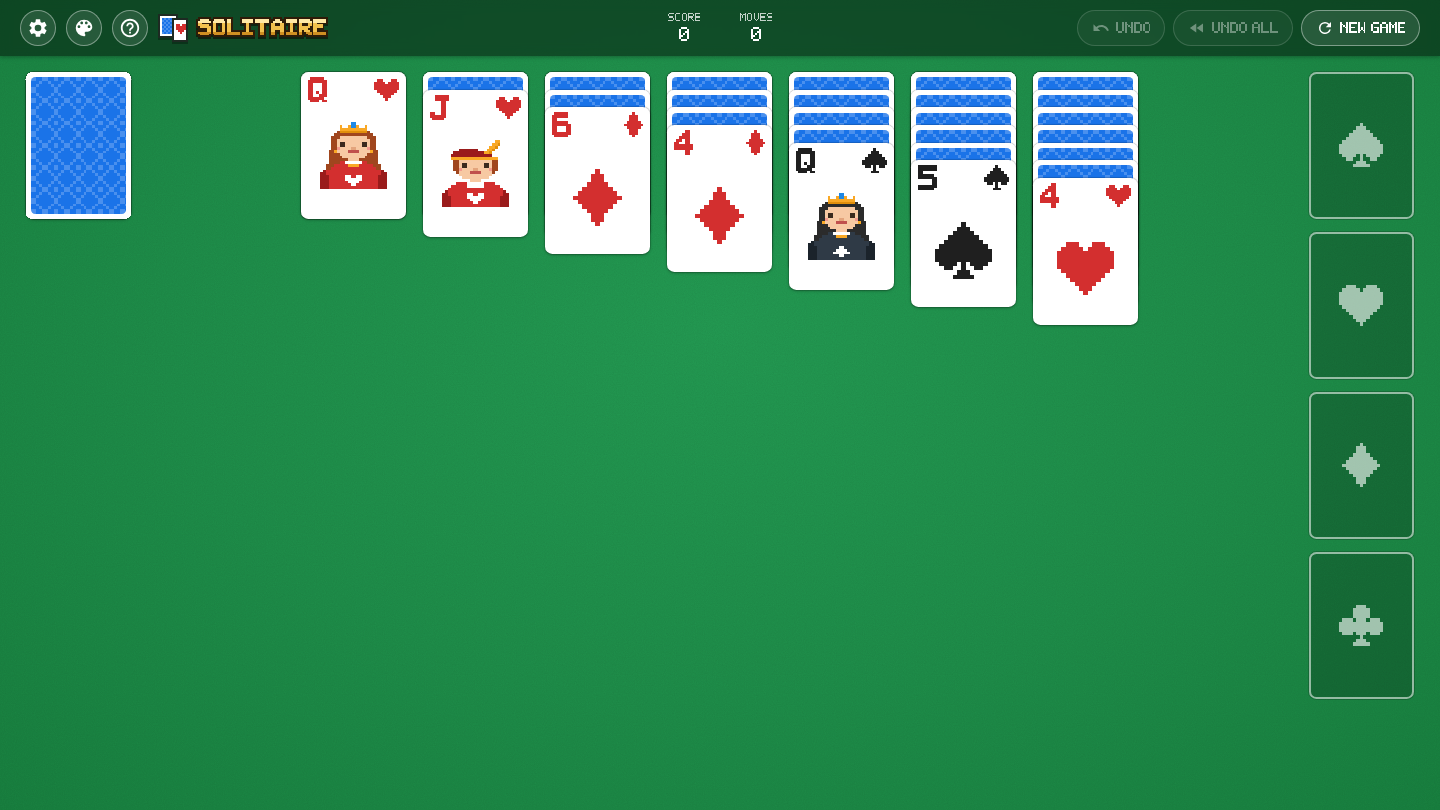
Test case: quick table picker › the palette button opens the six tables with the current one focused
Step 1. Click the button named "Change table" → click(84, 28), box [66,10,102,46]
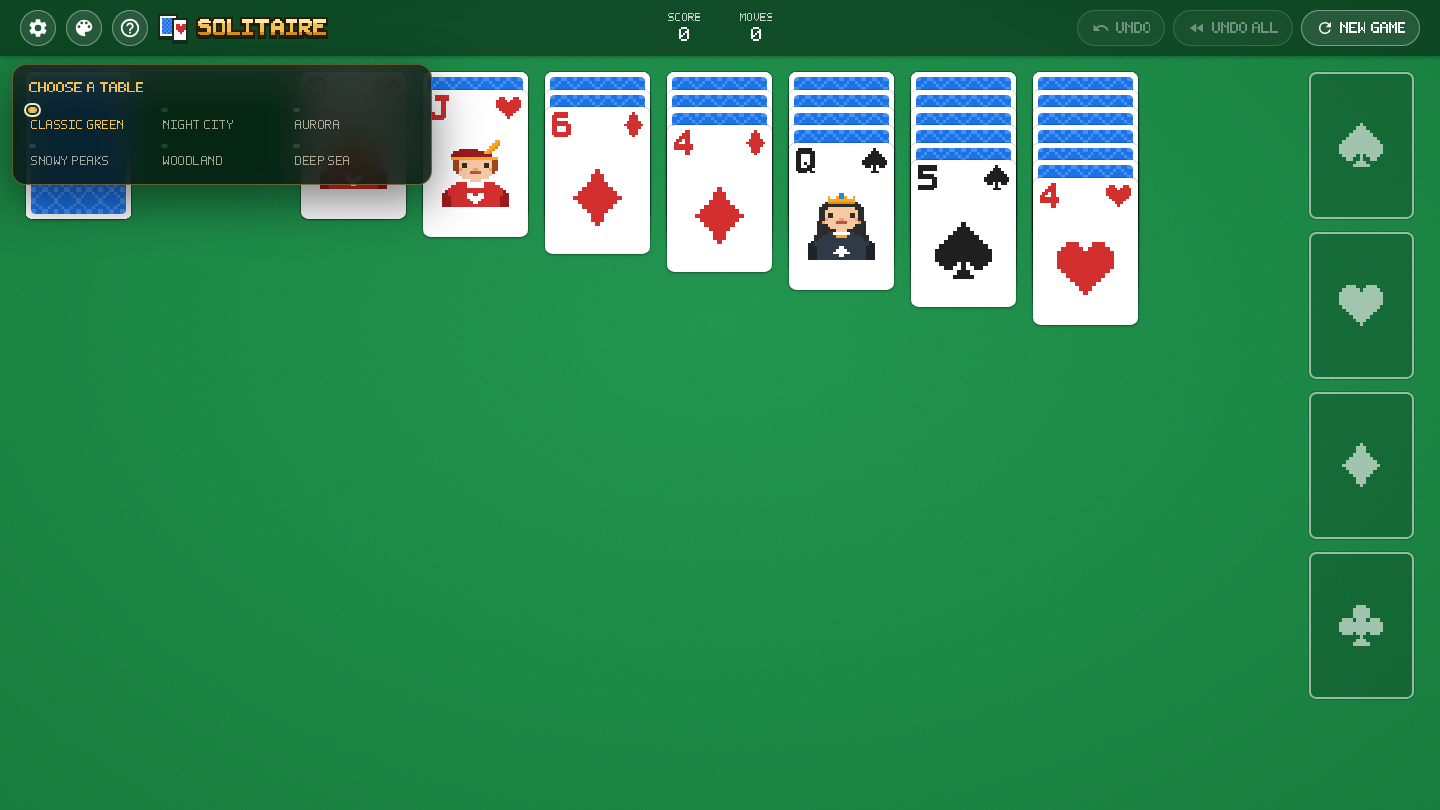
Expected: the number of radio buttons is 6, [29,108,151,132]; [161,108,283,132]; [293,108,415,132]; [29,144,151,168]; [161,144,283,168]; [293,144,415,168]
